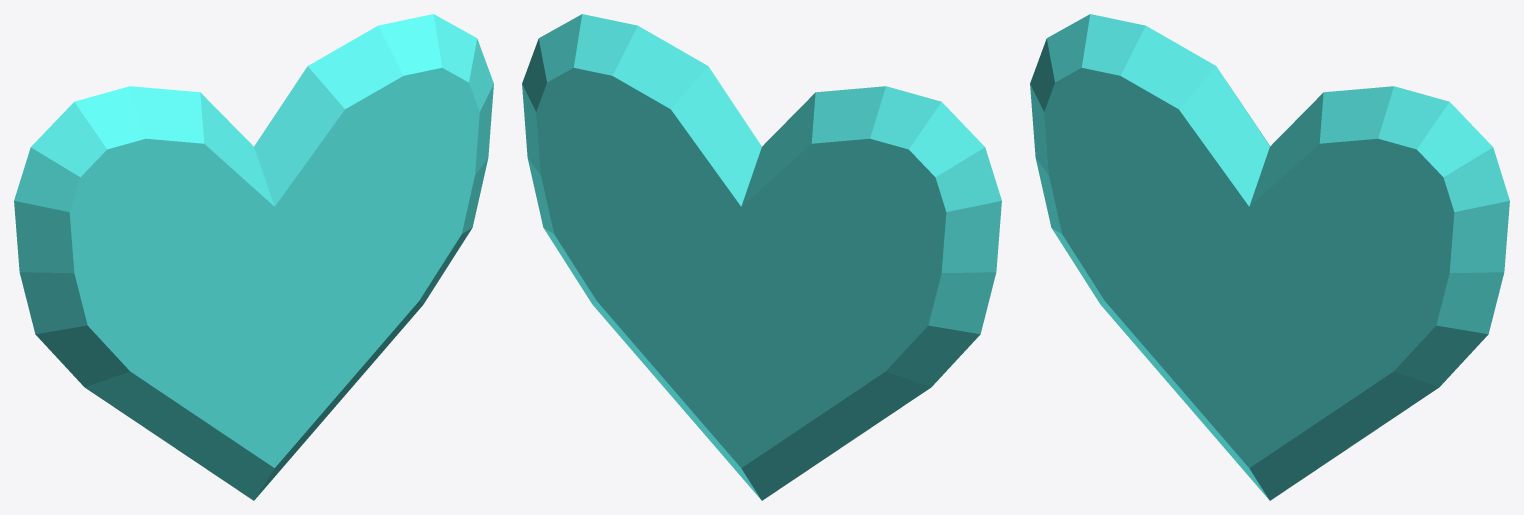
The model's file is heal_kit.glb.
3 renders of one model, left to right at view 1: azimuth 30°, elevation 25°; view 2: azimuth 150°, elevation 25°; view 3: azimuth 330°, elevation 25°, orthographic.
Parts seen in each view (by area): view 1: HealKit; view 2: HealKit; view 3: HealKit.
Boxes of the visible parts, x1,y1,x2,y2 form: HealKit: [14, 14, 493, 500]; HealKit: [522, 14, 1001, 500]; HealKit: [1030, 14, 1509, 500].
Size of the model in its own units: 2.98 by 2.64 by 0.4452.
